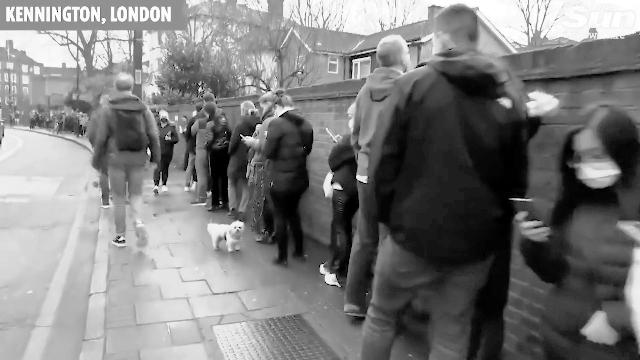berdiri: (345, 2, 537, 360), (252, 89, 318, 280)
berjalan: (91, 68, 167, 258)
